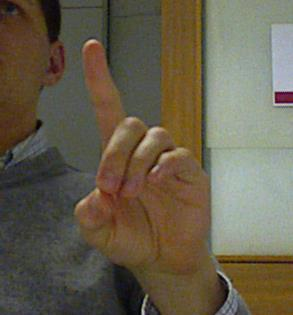up: (73, 38, 215, 275)
